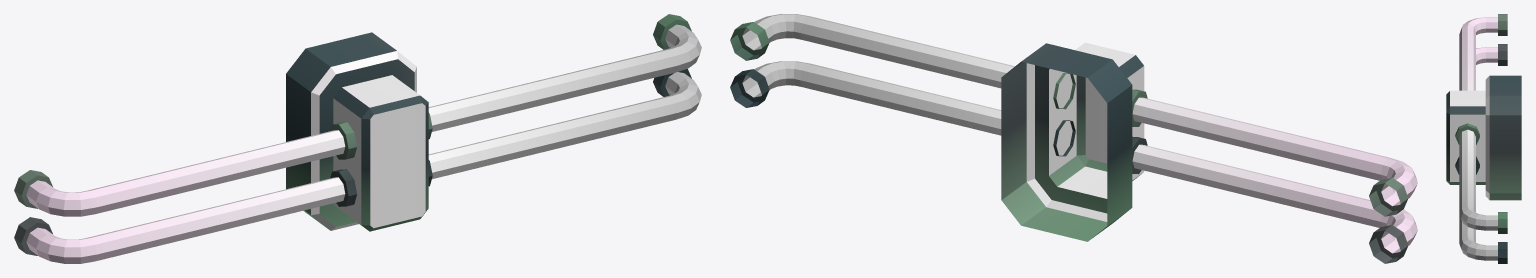
Rendered from pipe_device.fbx.
3 views of the same model, side by side, from view 1: azimuth 30°, elevation 25°; view 2: azimuth 150°, elevation 25°; view 3: azimuth 270°, elevation 25° (orthographic). The views are drawn at different scales.
Visible parts, largest first — view 1: pipe_device; view 2: pipe_device; view 3: pipe_device.
Boxes of the visible parts, box(x1,y1,x2,y2) form: pipe_device: box(14, 14, 701, 263); pipe_device: box(730, 14, 1417, 263); pipe_device: box(1446, 14, 1521, 263).
Bounding box in the file's own units: 179 × 41.79 × 27.3.
